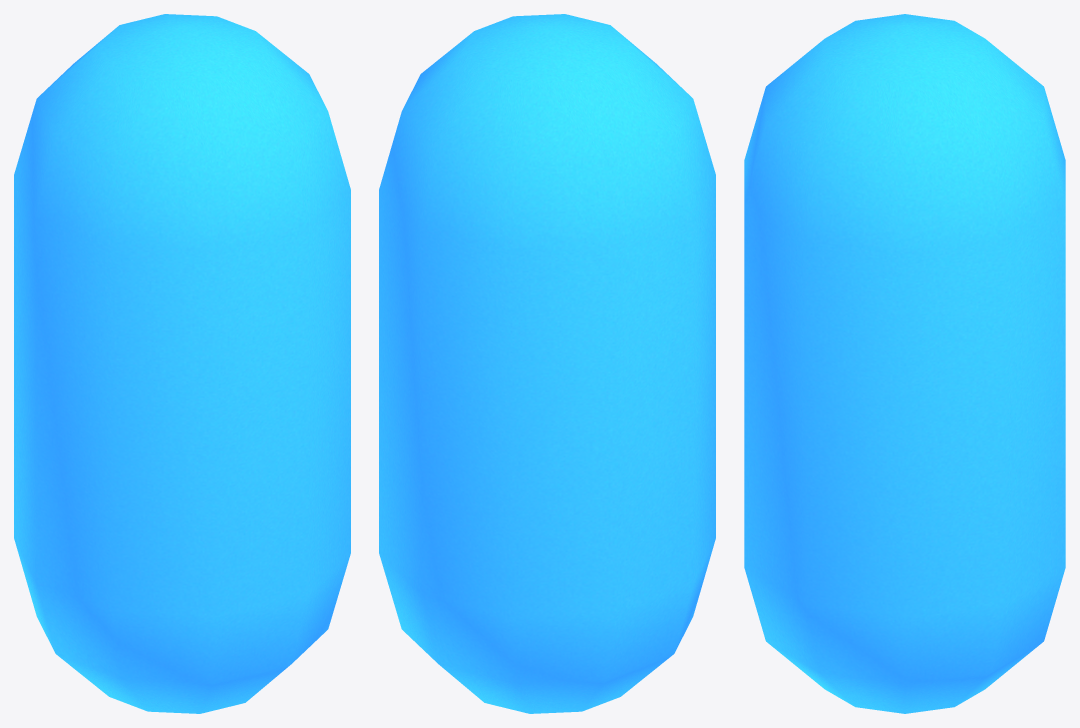
The model's file is Ket_Bullet.fbx.
3 renders of one model, left to right at view 1: azimuth 30°, elevation 25°; view 2: azimuth 150°, elevation 25°; view 3: azimuth 270°, elevation 25°, orthographic.
Parts seen in each view (by area): view 1: Capsule; view 2: Capsule; view 3: Capsule.
Boxes of the visible parts, x1,y1,x2,y2 form: Capsule: (14,14,350,713); Capsule: (379,14,715,713); Capsule: (744,14,1065,713).
Bounding box in the file's own units: 16 × 35 × 15.22.
Materials: 1 (1 with a texture image).
